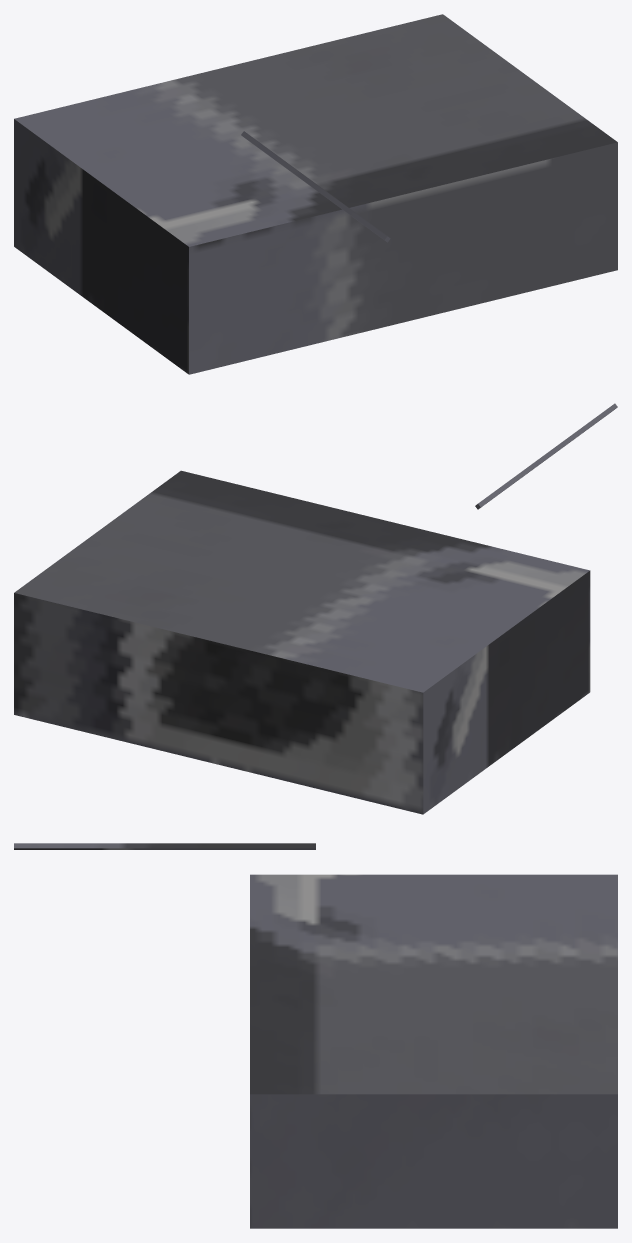
File: pz_house_value_radio.obj
3 views of the same model, one above another, from view 1: azimuth 30°, elevation 25°; view 2: azimuth 150°, elevation 25°; view 3: azimuth 270°, elevation 25° (orthographic). The views are drawn at different scales.
Parts seen in each view (by area): view 1: pz_house_value_radio_|_1_caixa_painel_nativo, pz_house_value_radio_|_2_antena; view 2: pz_house_value_radio_|_1_caixa_painel_nativo, pz_house_value_radio_|_2_antena; view 3: pz_house_value_radio_|_1_caixa_painel_nativo, pz_house_value_radio_|_2_antena.
Part boxes in pixels (bbox=[...]): pz_house_value_radio_|_1_caixa_painel_nativo: bbox=[14, 14, 617, 374]; pz_house_value_radio_|_2_antena: bbox=[241, 131, 390, 242]; pz_house_value_radio_|_1_caixa_painel_nativo: bbox=[14, 470, 590, 814]; pz_house_value_radio_|_2_antena: bbox=[475, 403, 617, 509]; pz_house_value_radio_|_1_caixa_painel_nativo: bbox=[250, 874, 617, 1228]; pz_house_value_radio_|_2_antena: bbox=[14, 843, 315, 849].
Bounding box in the file's own units: 0.4136 × 0.1841 × 0.48.
